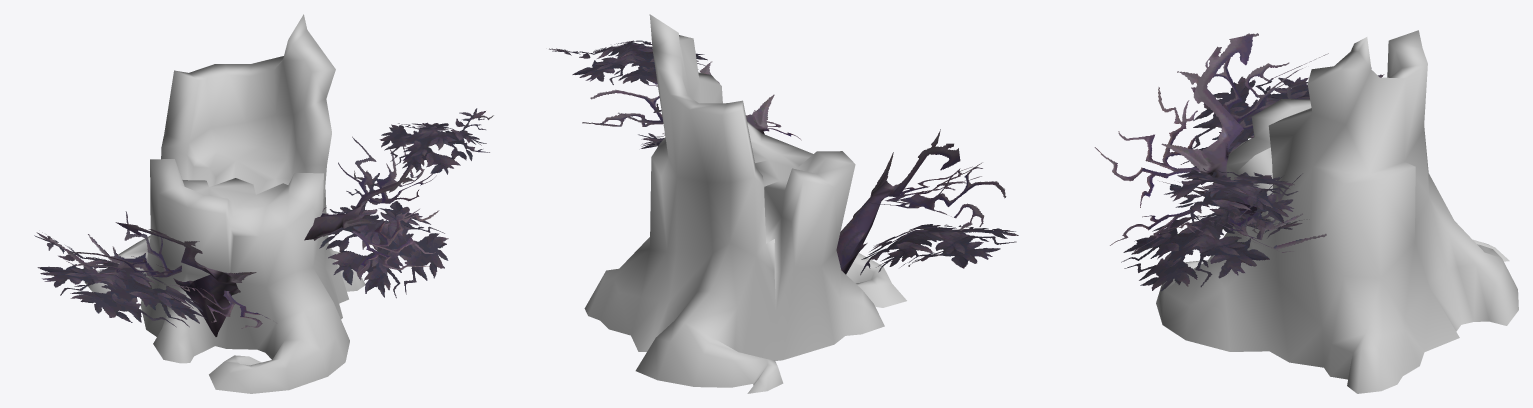
The model's file is TwistedJungle_Tree08.FBX.
3 renders of one model, left to right at view 1: azimuth 30°, elevation 25°; view 2: azimuth 150°, elevation 25°; view 3: azimuth 270°, elevation 25°, orthographic. The views are drawn at different scales.
Parts seen in each view (by area): view 1: TwistedJungle_Tree08; view 2: TwistedJungle_Tree08; view 3: TwistedJungle_Tree08.
Part boxes in pixels (left/top/right/bottom): TwistedJungle_Tree08: left=34, top=14, right=493, bottom=393; TwistedJungle_Tree08: left=549, top=14, right=1018, bottom=393; TwistedJungle_Tree08: left=1094, top=30, right=1518, bottom=393.
Bounding box in the file's own units: 564 × 323 × 390.
